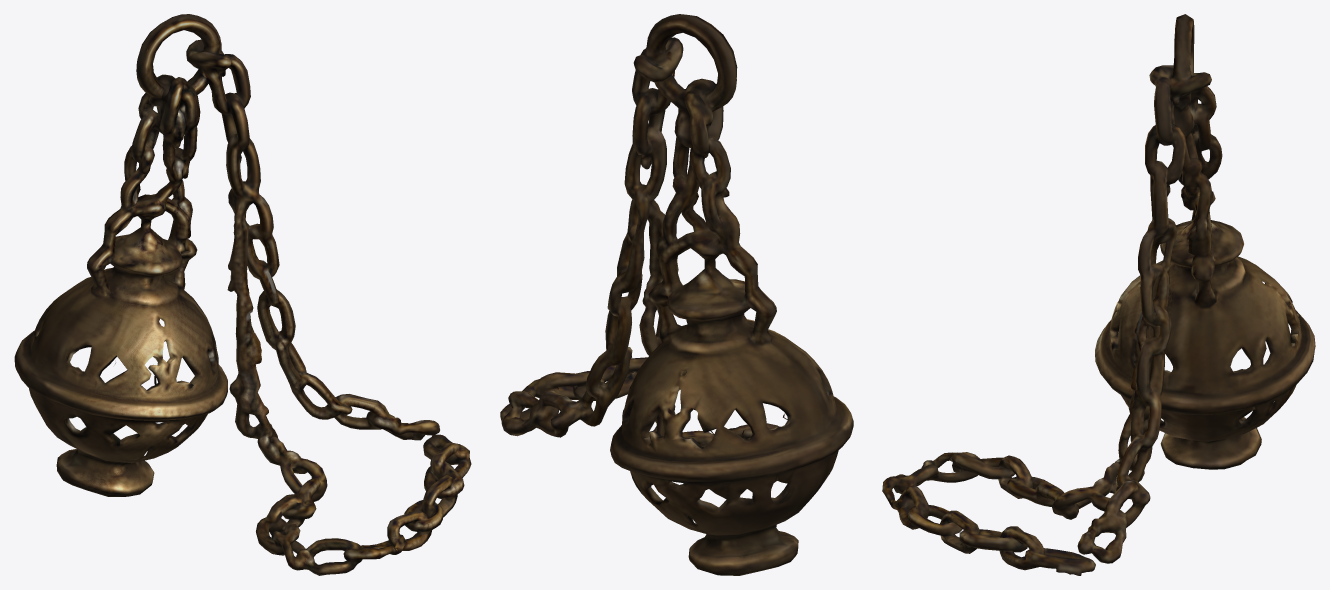
File: P02_hush_herald_censer.glb
3 renders of one model, left to right at view 1: azimuth 30°, elevation 25°; view 2: azimuth 150°, elevation 25°; view 3: azimuth 270°, elevation 25°, orthographic. The views are drawn at different scales.
Visible parts, largest first — view 1: tripo_2dafef92_5dc3_4735_a4ca_8a1f4d4a7ef5; view 2: tripo_2dafef92_5dc3_4735_a4ca_8a1f4d4a7ef5; view 3: tripo_2dafef92_5dc3_4735_a4ca_8a1f4d4a7ef5.
Boxes of the visible parts, x1=… form: tripo_2dafef92_5dc3_4735_a4ca_8a1f4d4a7ef5: x1=14, y1=14, x2=471, y2=575; tripo_2dafef92_5dc3_4735_a4ca_8a1f4d4a7ef5: x1=500, y1=14, x2=853, y2=575; tripo_2dafef92_5dc3_4735_a4ca_8a1f4d4a7ef5: x1=882, y1=14, x2=1315, y2=575.
Size of the model in its own units: 0.811 by 0.9995 by 0.8423.
Materials: 1 (1 with a texture image).
